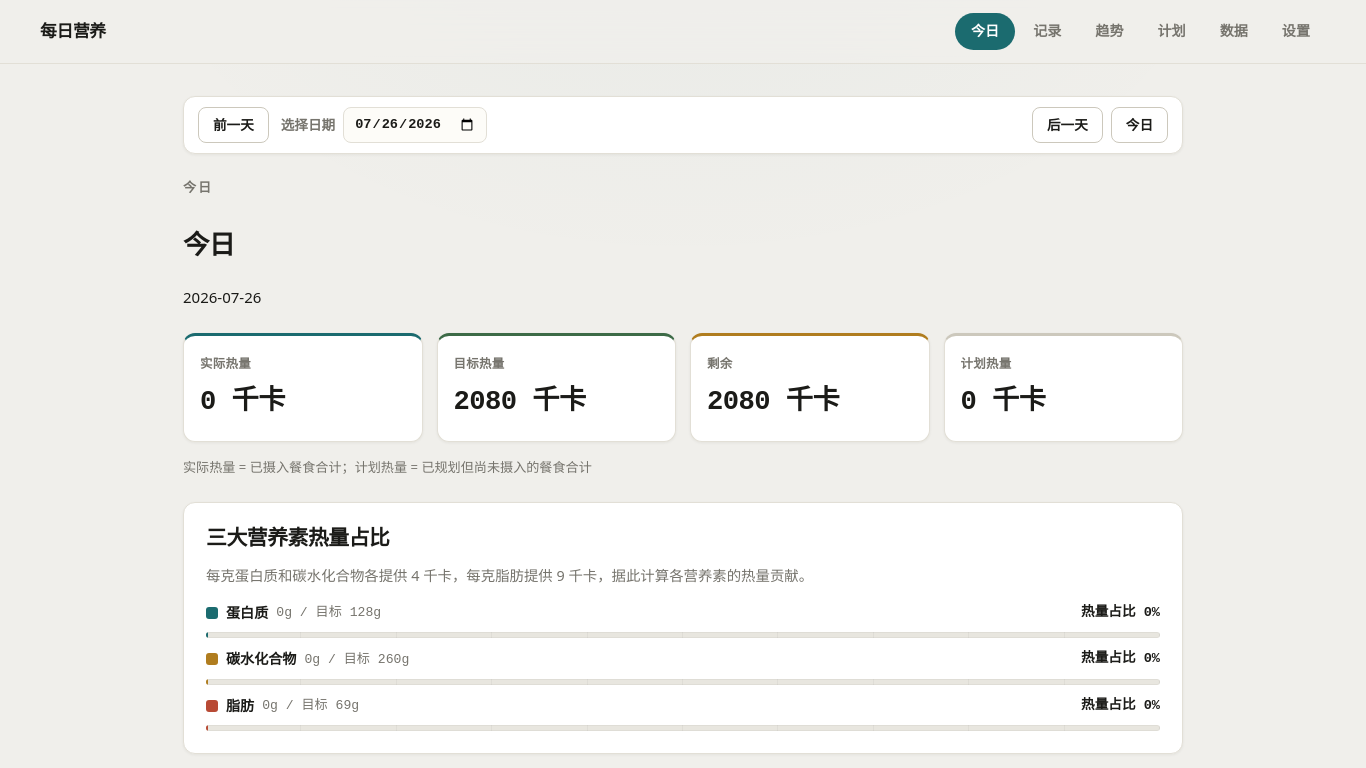
Test case: trends visual › shows an accessible weight trend bar when metrics exist
This screenshot has width=1366, height=768.
Expected: the heading "今日" is shown, left=183, top=226, right=235, bottom=262
What coordinates should you click on to do the following:
click the button "趋势"
I would click on:
 (1109, 31)
Its box is left=1079, top=13, right=1140, bottom=50.
(page scrolled)
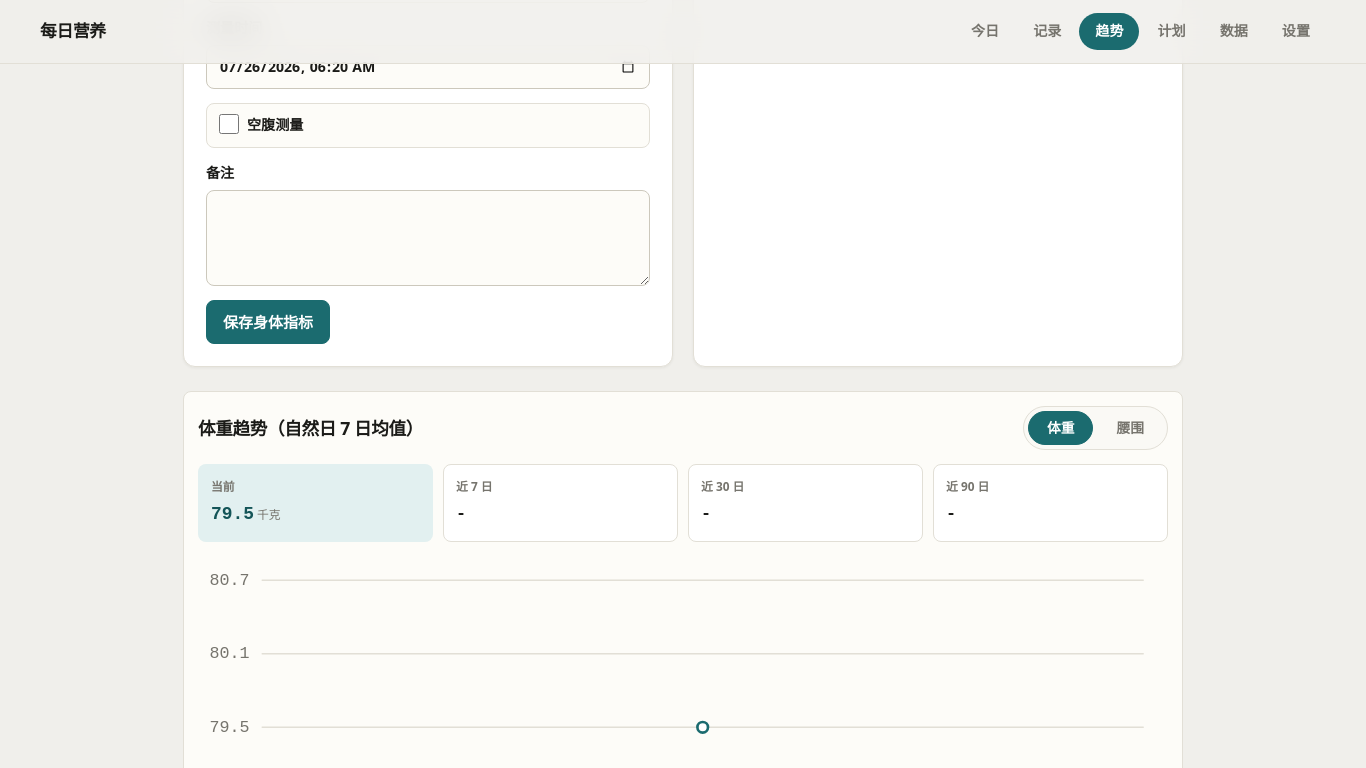
Now the heading "体重趋势（自然日 7 日均值）" is shown, box left=198, top=416, right=423, bottom=440
